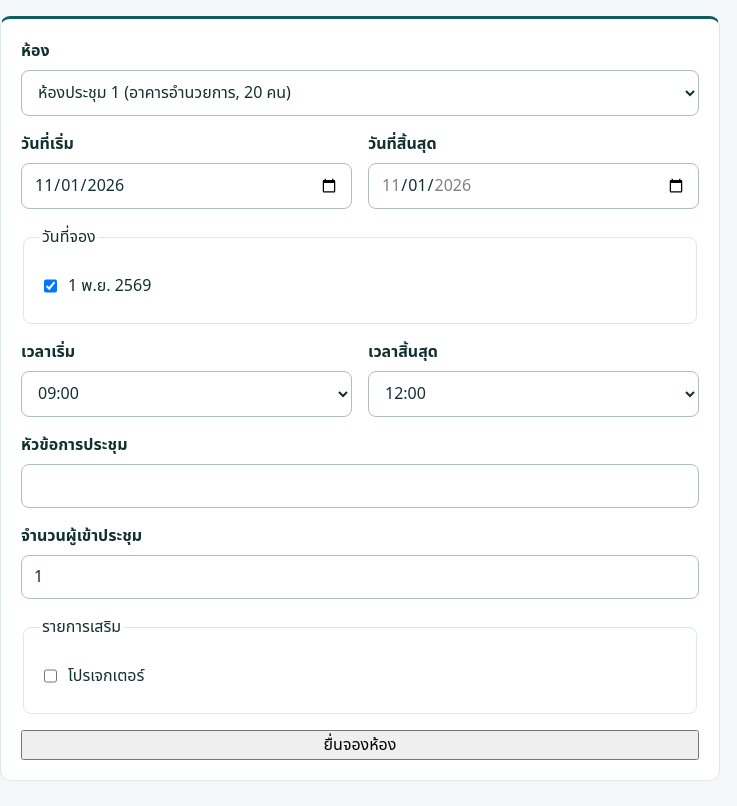
Test case: lists the days that clash when the room is taken
Type "2026-11-05" into the date field labelled "วันที่เริ่ม" at (186, 186), box [21,163,352,209]
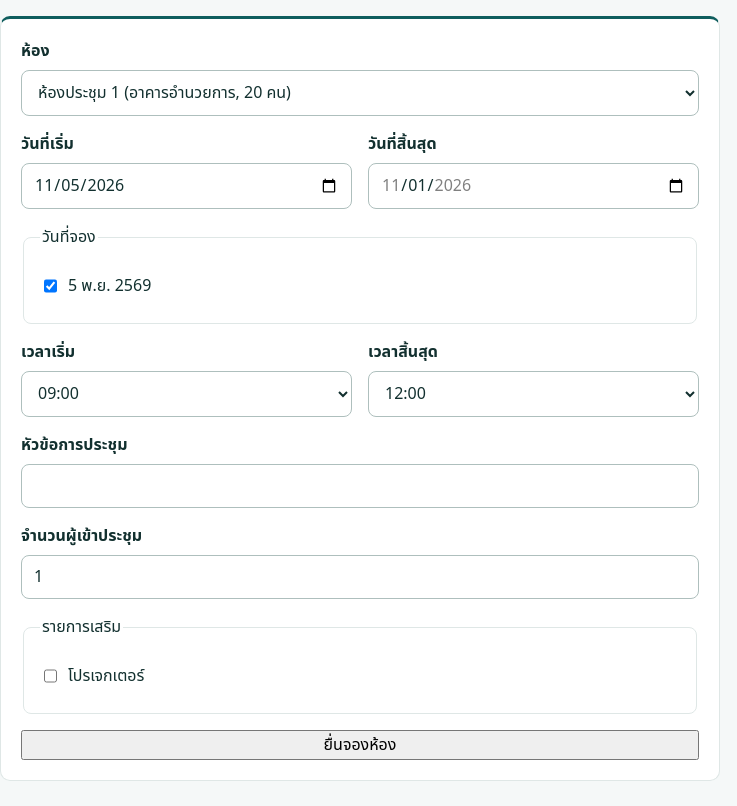
Type "2026-11-07" into the date field labelled "วันที่สิ้นสุด" at (534, 186), box [368,163,699,209]
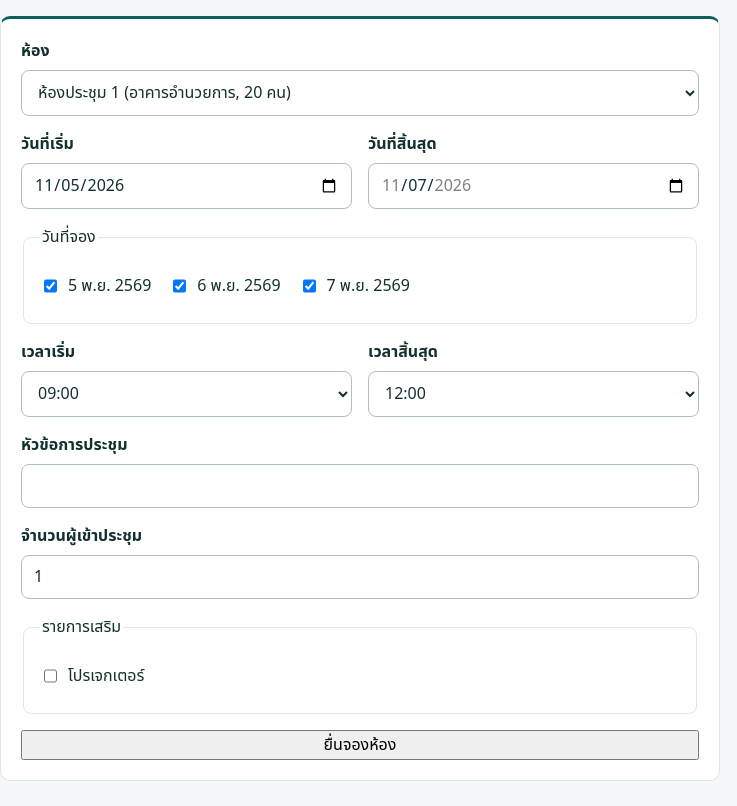
Select "09:00" in the dropdown labelled "เวลาเริ่ม" at (186, 394), box [21,371,352,417]
Select "12:00" in the dropdown labelled "เวลาสิ้นสุด" at (534, 394), box [368,371,699,417]
Type "อบรมพยาบาลใหม่" into the field labelled "หัวข้อการประชุม" at (360, 486), box [21,464,699,508]
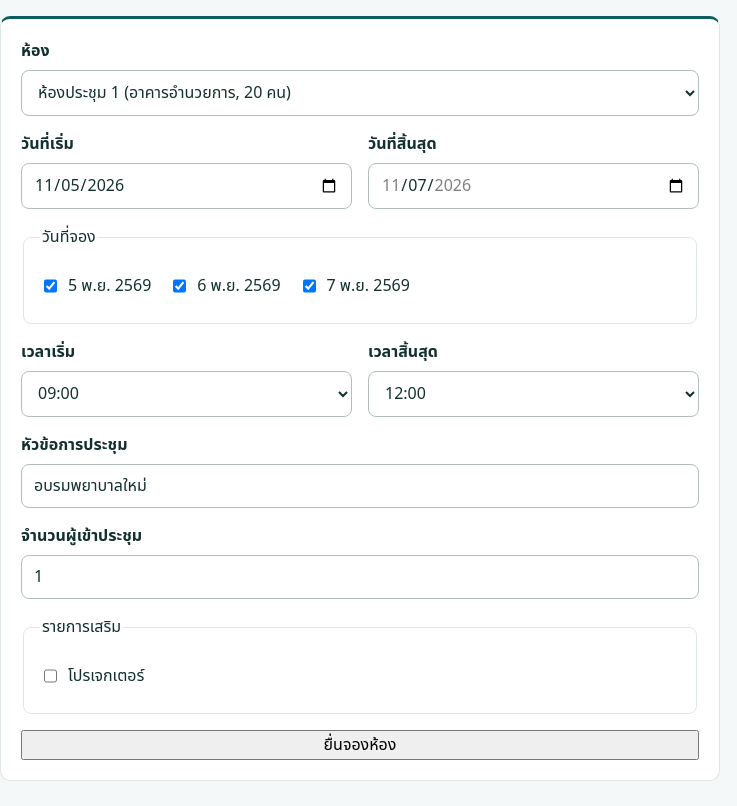
Replace the text in the number field labelled "จำนวนผู้เข้าประชุม" with "15" at (360, 577), box [21,555,699,599]
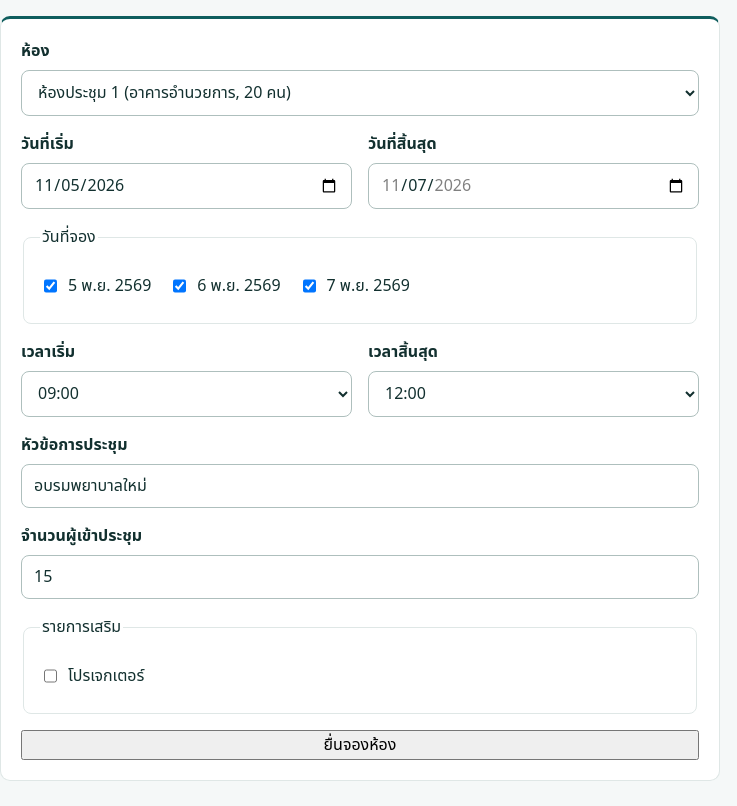
Click the button "ยื่นจองห้อง" at (360, 745), box [21,730,699,760]
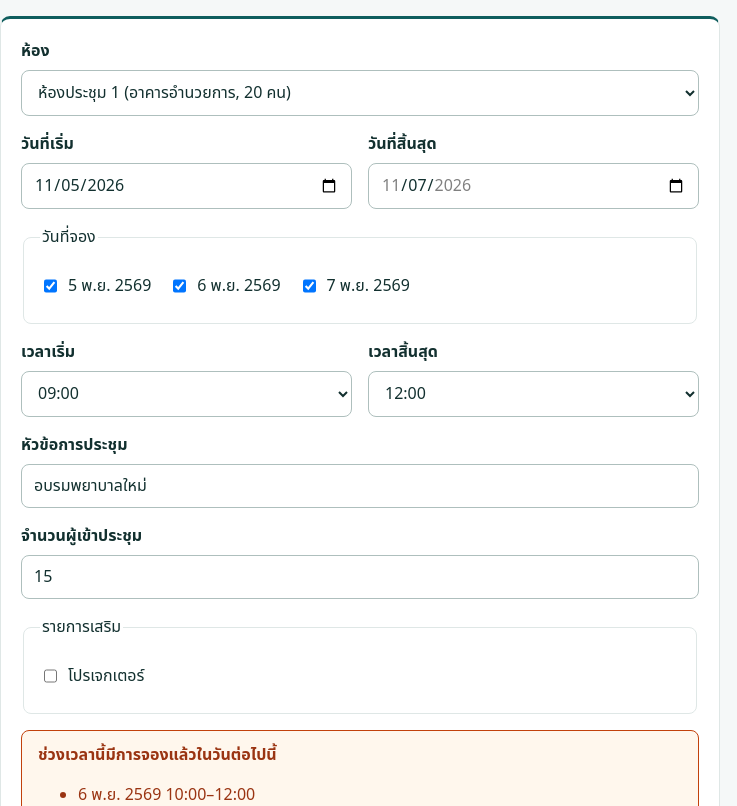
Result: the text "ช่วงเวลานี้มีการจองแล้วในวันต่อไปนี้" is shown at [38,743,277,767]
Result: the list item "6 พ.ย. 2569 10:00–12:00" is shown at [78,783,255,805]
